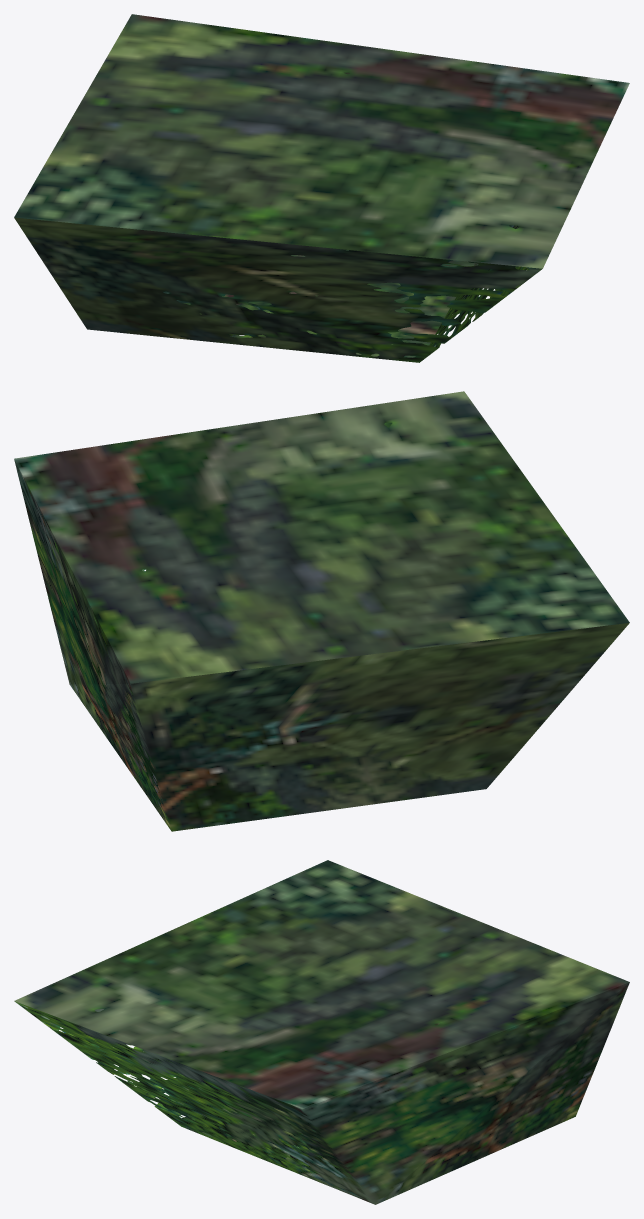
Rendered from BurntTree_2_B_1.gltf.
3 renders of one model, top to bottom at view 1: azimuth 30°, elevation 25°; view 2: azimuth 150°, elevation 25°; view 3: azimuth 270°, elevation 25°, orthographic. The views are drawn at different scales.
Parts seen in each view (by area): view 1: BurntTree_2_B_1; view 2: BurntTree_2_B_1; view 3: BurntTree_2_B_1.
Boxes of the visible parts, x1,y1,x2,y2 form: BurntTree_2_B_1: [14, 14, 629, 362]; BurntTree_2_B_1: [14, 391, 629, 831]; BurntTree_2_B_1: [14, 860, 629, 1204].
Size of the model in its own units: 1.65 by 0.427 by 1.73.
1 material, 1 textured.
